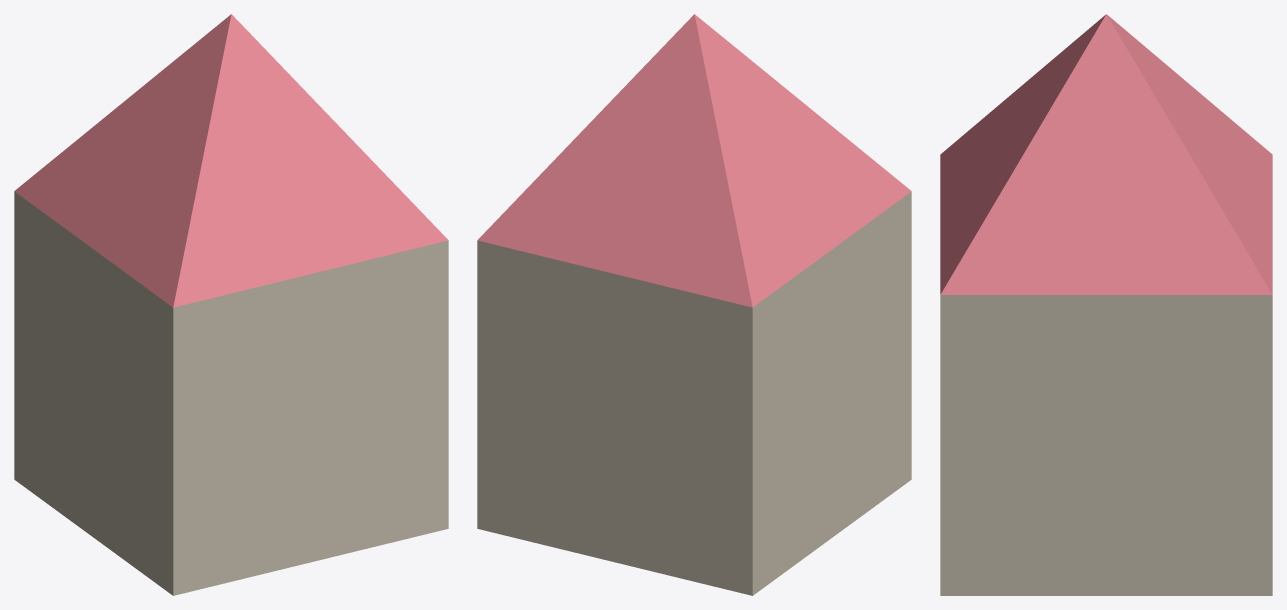
The model's file is _voorbeeld.gltf.
The picture shows the model from 3 angles, left to right: view 1: azimuth 30°, elevation 25°; view 2: azimuth 150°, elevation 25°; view 3: azimuth 270°, elevation 25°; orthographic projection. The views are drawn at different scales.
Size of the model in its own units: 1 by 1.7 by 1.
